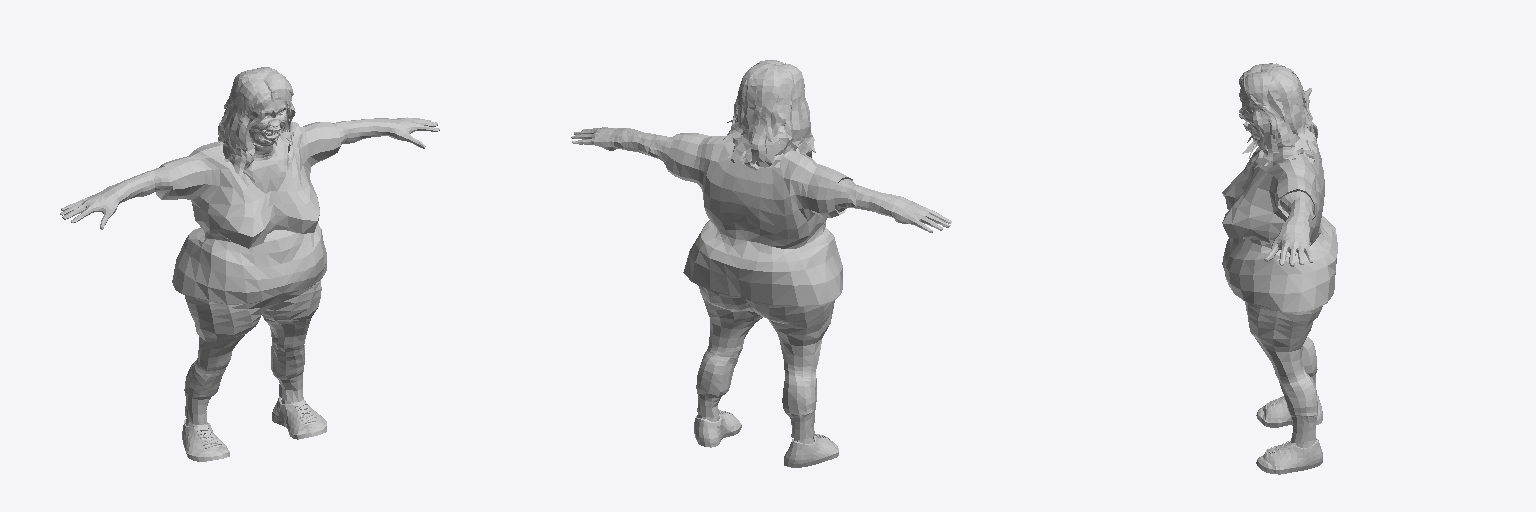
The model's file is Rossi_s Pusher.obj.
3 renders of one model, left to right at view 1: azimuth 30°, elevation 25°; view 2: azimuth 150°, elevation 25°; view 3: azimuth 270°, elevation 25°, orthographic.
Visible parts, largest first — view 1: Tops, Bottoms, Body, Hair, Shoes; view 2: Tops, Bottoms, Hair, Body, Shoes; view 3: Tops, Hair, Bottoms, Body, Shoes.
Boxes of the visible parts, x1=… form: Tops: x1=156, y1=122, x2=340, y2=304; Bottoms: x1=184, y1=280, x2=321, y2=424; Body: x1=60, y1=100, x2=439, y2=426; Hair: x1=218, y1=67, x2=299, y2=184; Shoes: x1=182, y1=396, x2=326, y2=461; Tops: x1=666, y1=133, x2=852, y2=306; Bottoms: x1=696, y1=285, x2=834, y2=439; Hair: x1=723, y1=60, x2=815, y2=170; Body: x1=571, y1=127, x2=951, y2=443; Shoes: x1=694, y1=410, x2=838, y2=467; Tops: x1=1222, y1=125, x2=1337, y2=312; Hair: x1=1239, y1=63, x2=1317, y2=169; Bottoms: x1=1245, y1=301, x2=1322, y2=442; Body: x1=1239, y1=86, x2=1315, y2=448; Shoes: x1=1256, y1=394, x2=1322, y2=474.
Bounding box in the file's own units: 146 × 140 × 39.1.